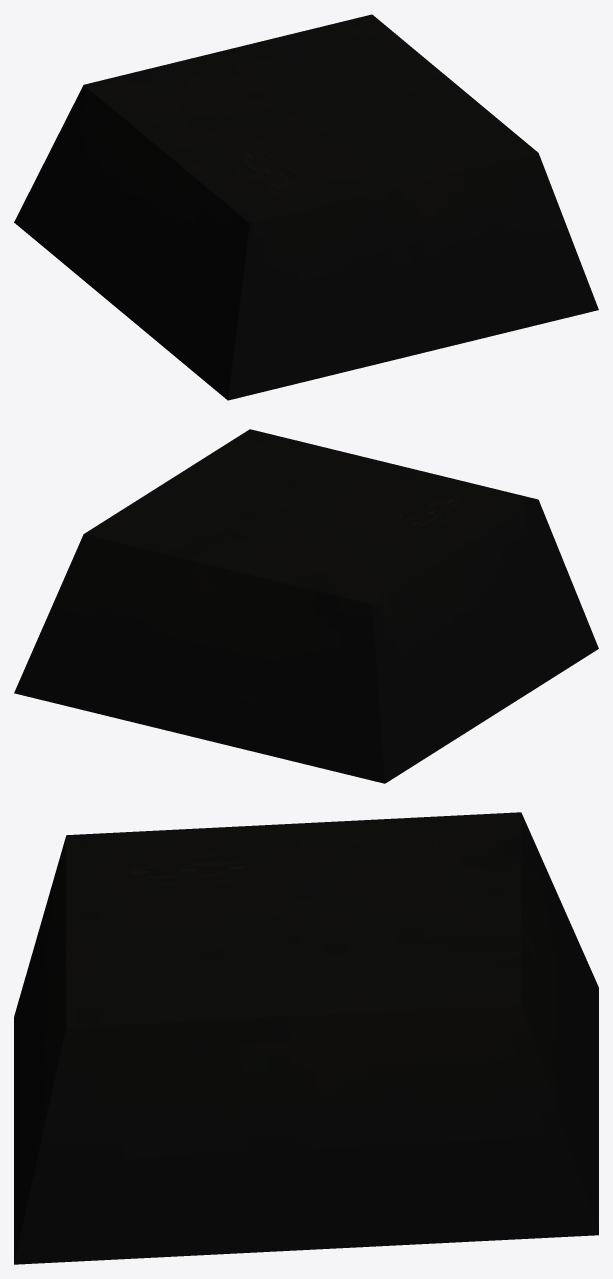
Rendered from link_47__key-53.glb.
3 renders of one model, top to bottom at view 1: azimuth 30°, elevation 25°; view 2: azimuth 150°, elevation 25°; view 3: azimuth 270°, elevation 25°, orthographic. The views are drawn at different scales.
Parts seen in each view (by area): view 1: world; view 2: world; view 3: world.
Part boxes in pixels (box(x1,y1,x2,y2)): world: box(14, 14, 598, 400); world: box(14, 429, 598, 783); world: box(14, 812, 598, 1264).
Bounding box in the file's own units: 0.0719 × 0.0315 × 0.0718.
Materials: 1 (1 with a texture image).
